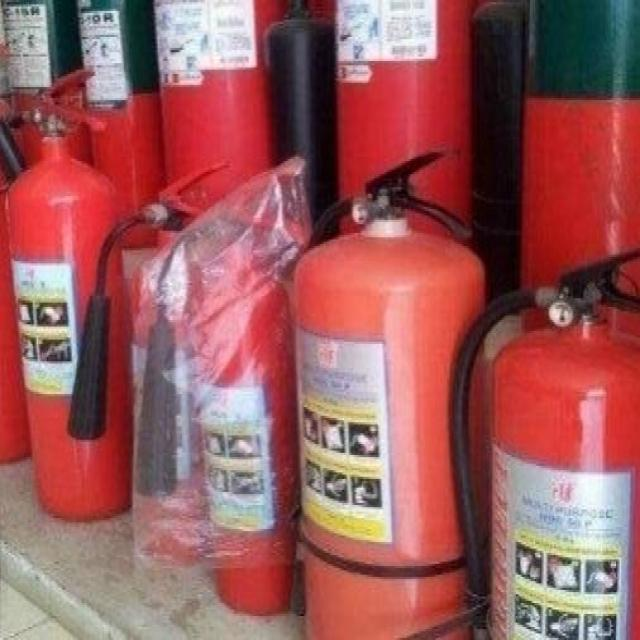fire_extinguisher: (267, 130, 502, 638), (441, 231, 638, 638), (330, 0, 477, 501), (0, 58, 142, 534), (144, 0, 288, 444), (203, 137, 311, 629), (65, 0, 182, 387), (0, 77, 33, 478)
